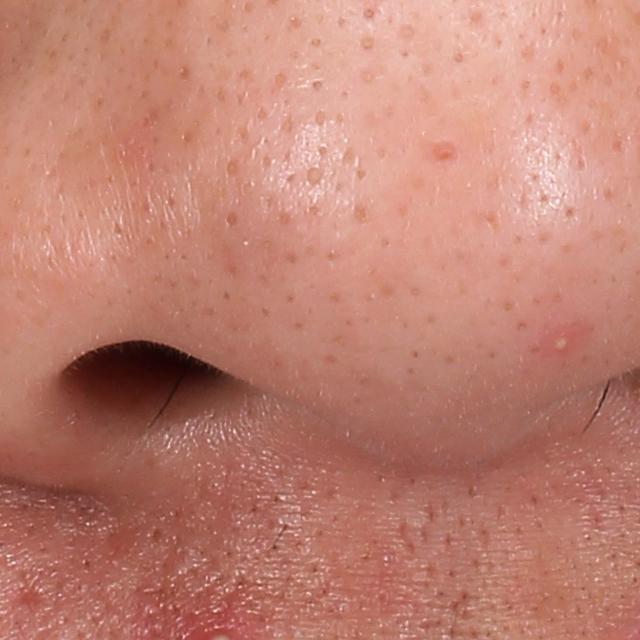atrophic_scar: (3, 570, 55, 614)
comedo: (219, 204, 245, 231)
pustule: (551, 336, 571, 354)
